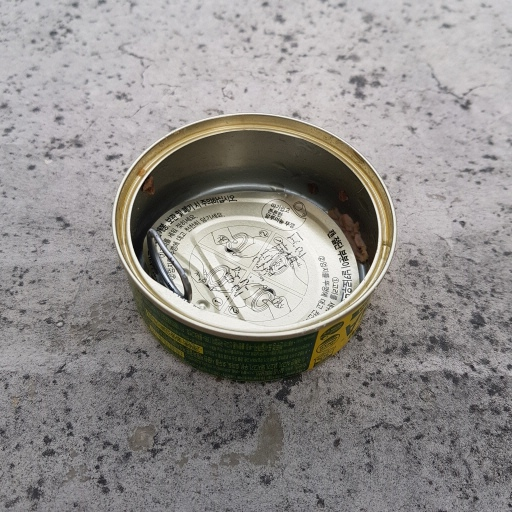Metal_1: (110, 110, 398, 381)
